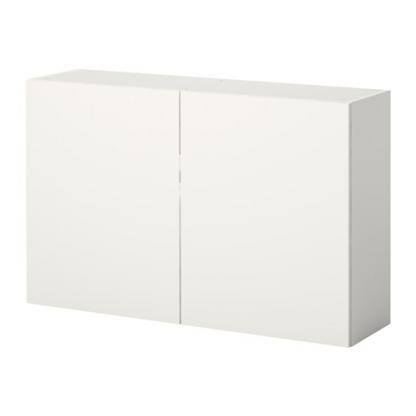Cabinet: (20, 63, 393, 350)
